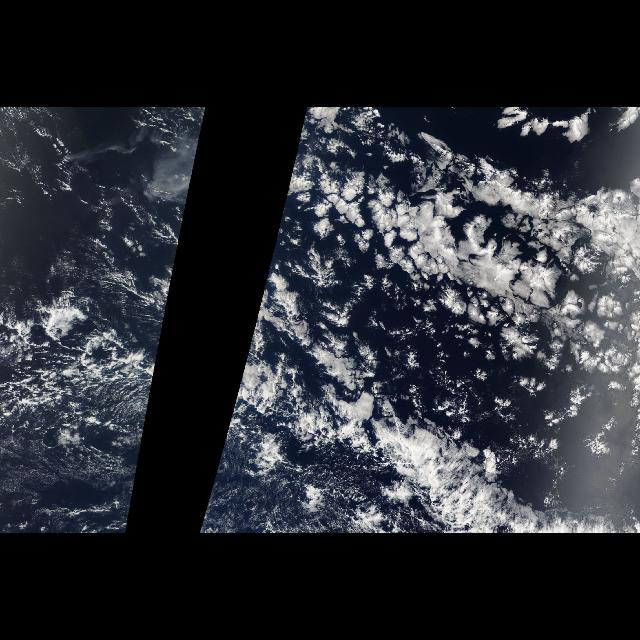Fish: (203, 107, 639, 533)
Flower: (282, 122, 636, 472)
Gravel: (5, 268, 161, 440)
